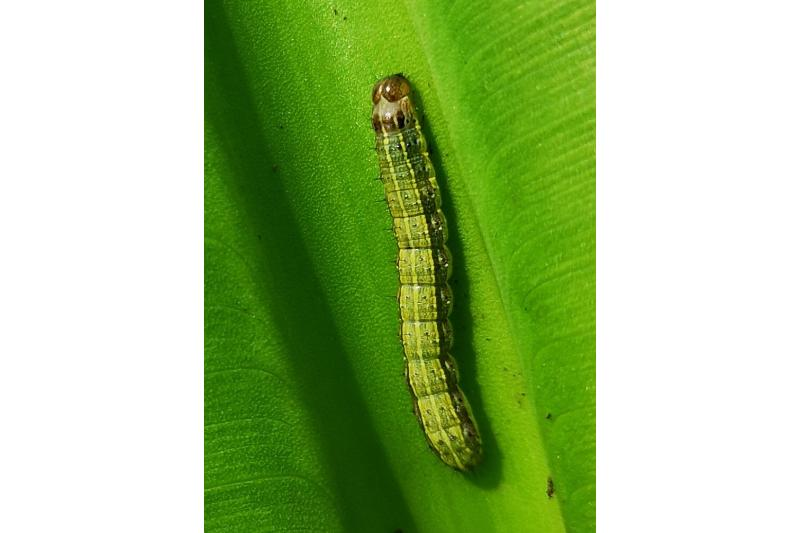fall-armyworm: (373, 75, 487, 477)
